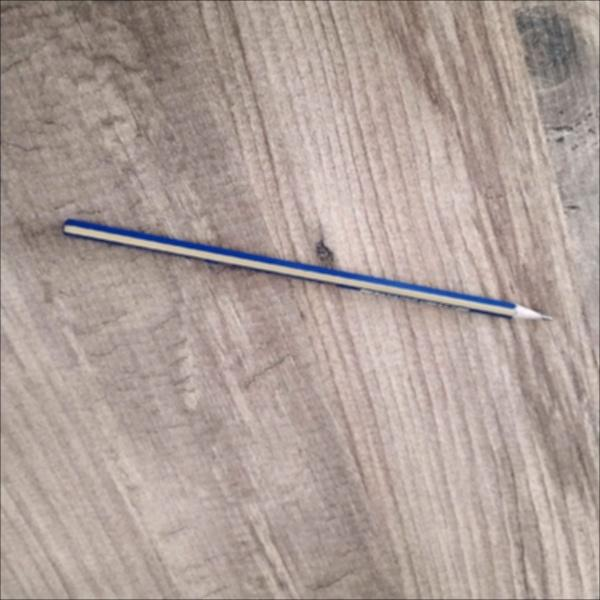pencil: (51, 208, 567, 335)
